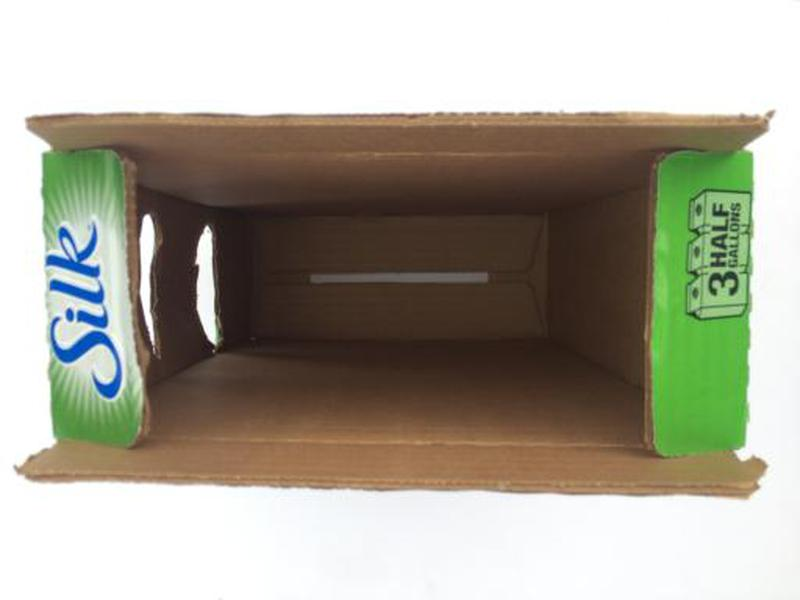cardboard: (14, 103, 779, 498)
